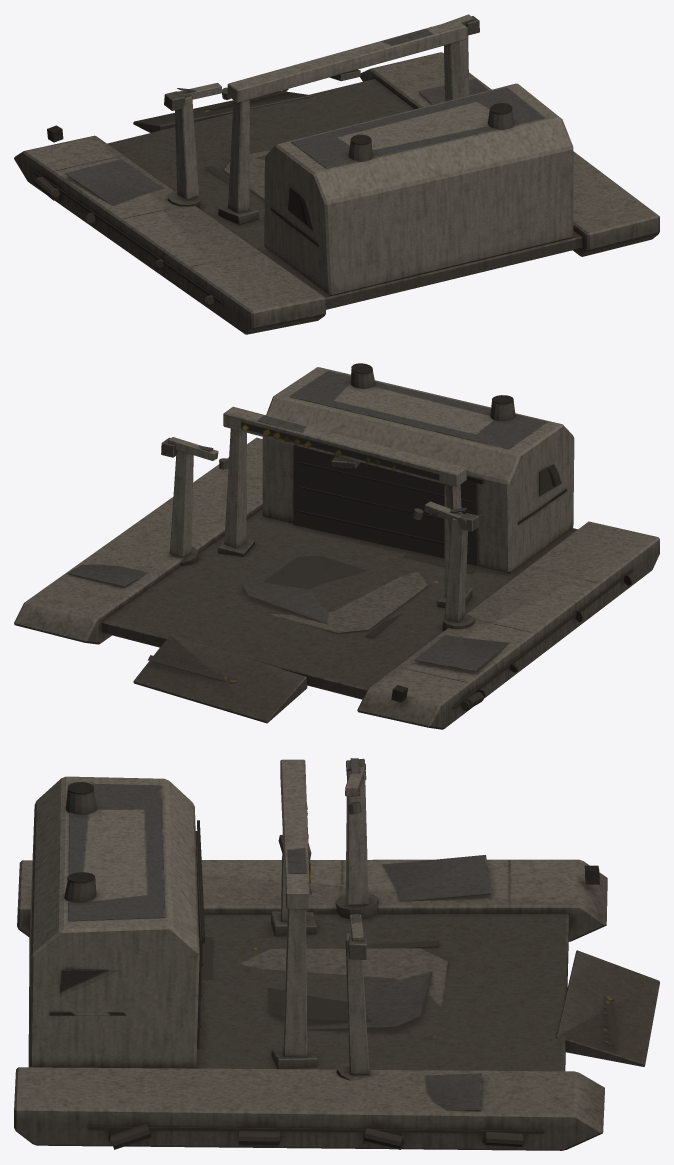
Rendered from ord_hoverdock_wreck.fbx.
The picture shows the model from 3 angles, top to bottom: view 1: azimuth 30°, elevation 25°; view 2: azimuth 150°, elevation 25°; view 3: azimuth 270°, elevation 25°; orthographic projection. The views are drawn at different scales.
Parts seen in each view (by area): view 1: base_bar; view 2: base_bar; view 3: base_bar.
Boxes of the visible parts, left/top/right/bottom form: base_bar: left=14, top=14, right=659, bottom=334; base_bar: left=14, top=363, right=659, bottom=729; base_bar: left=14, top=758, right=659, bottom=1150.
Bounding box in the file's own units: 3093 × 1232 × 3157.
2 materials, 2 textured.
